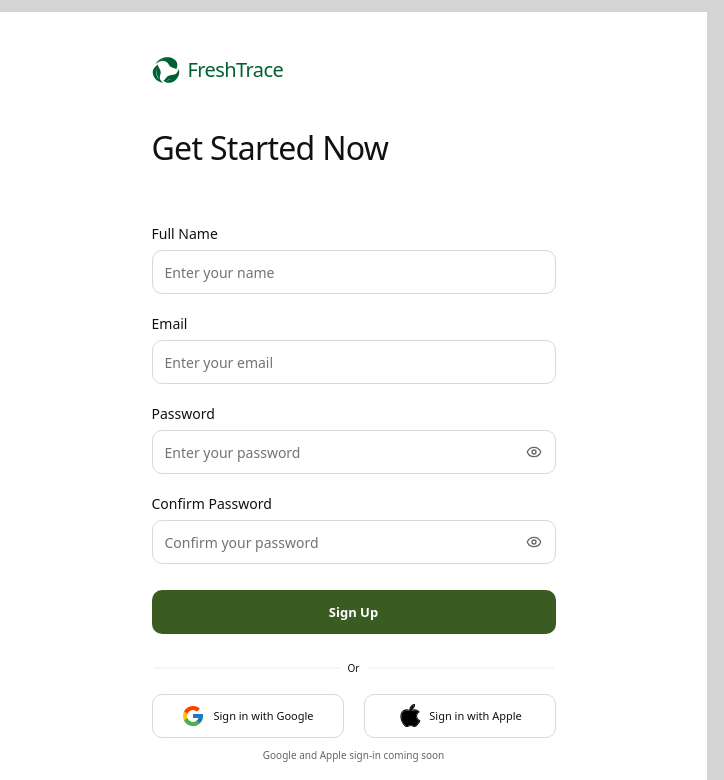
Test: signup confirmation and login › shows a safe API error and allows a retry
Type "Test User" into the field labelled "Full Name" at point(354, 272), box [152,250,556,294]
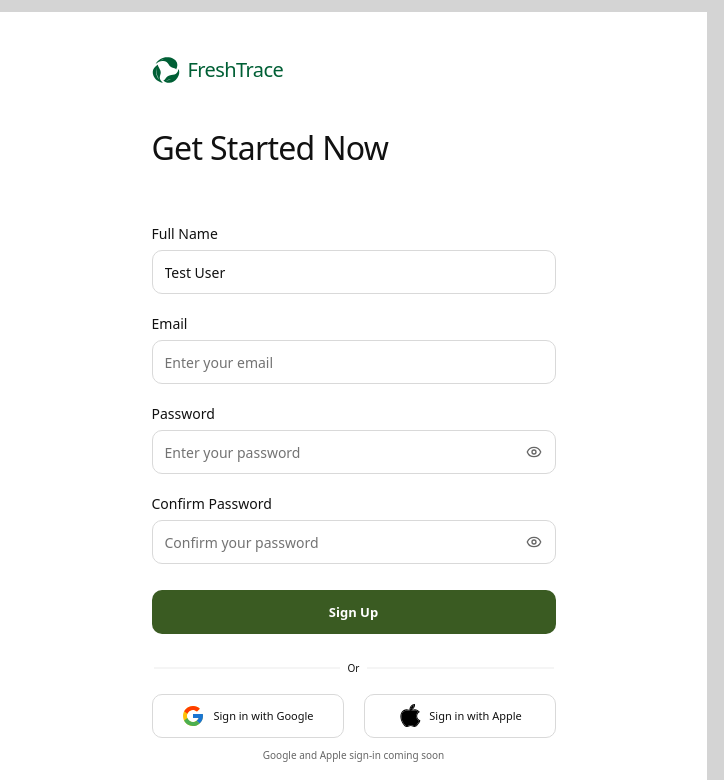
Type "test@example.com" into the field labelled "Email" at point(354, 362), box [152,340,556,384]
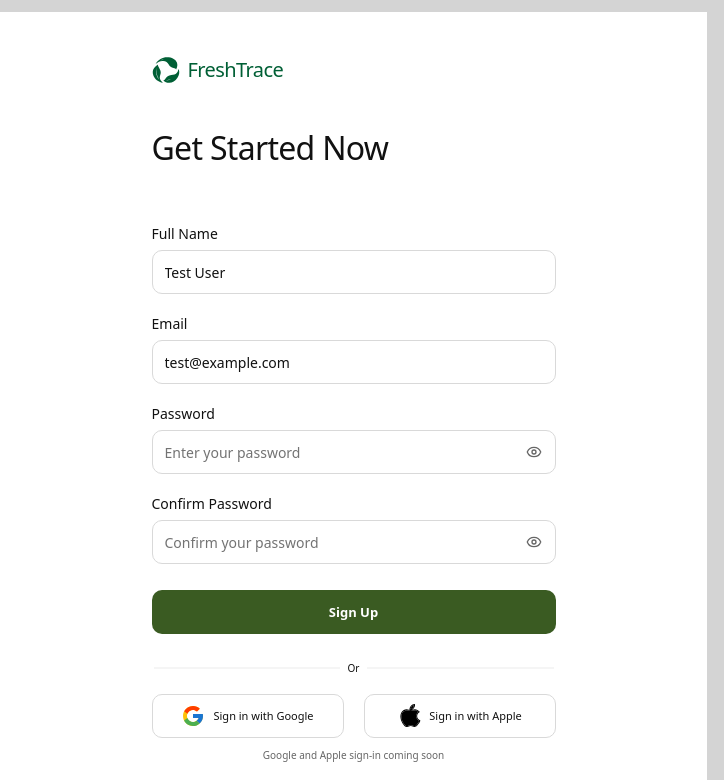
Type "fake-password" into the password field labelled "Password" at point(354, 452), box [152,430,556,474]
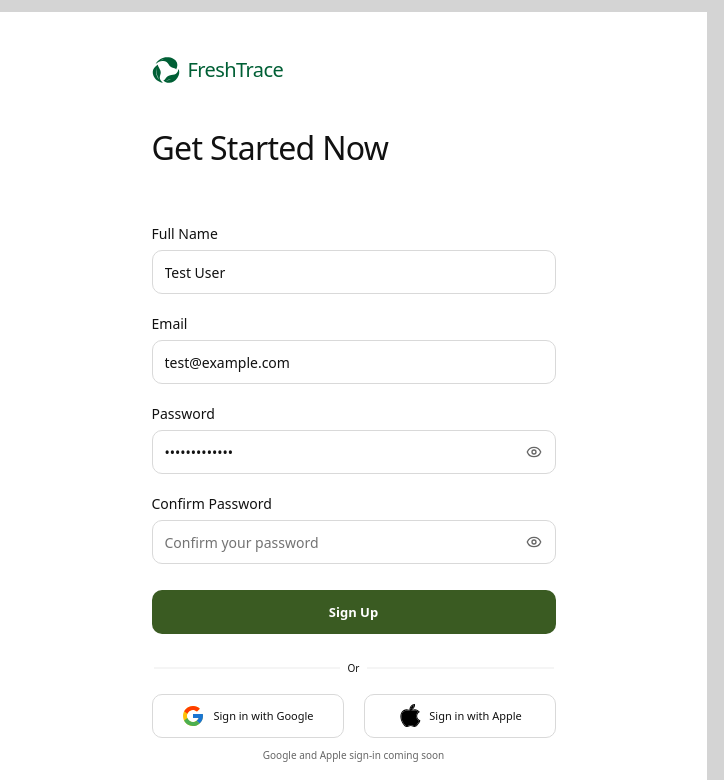
Type "fake-password" into the password field labelled "Confirm Password" at point(354, 542), box [152,520,556,564]
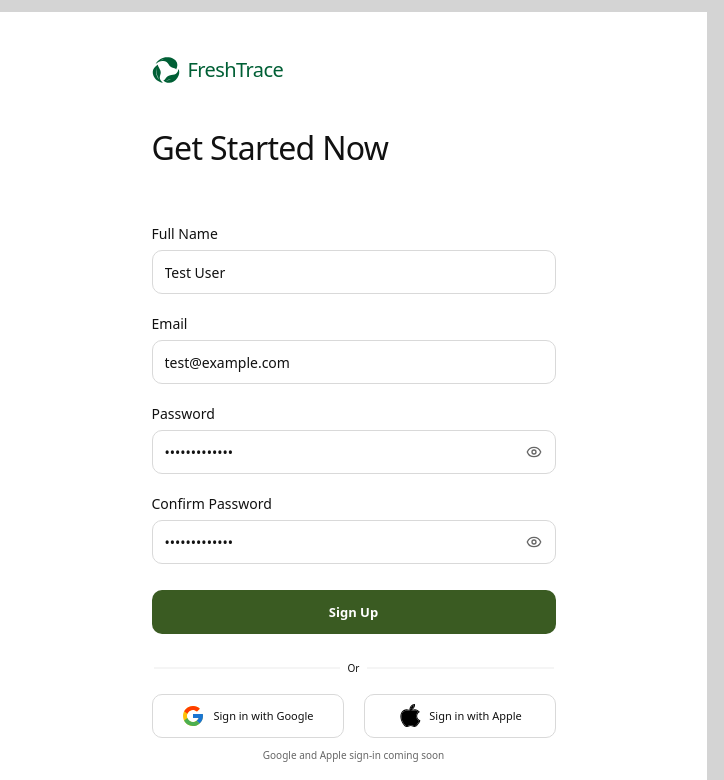
Submit the form named "Create an account", box [152,224,556,634]
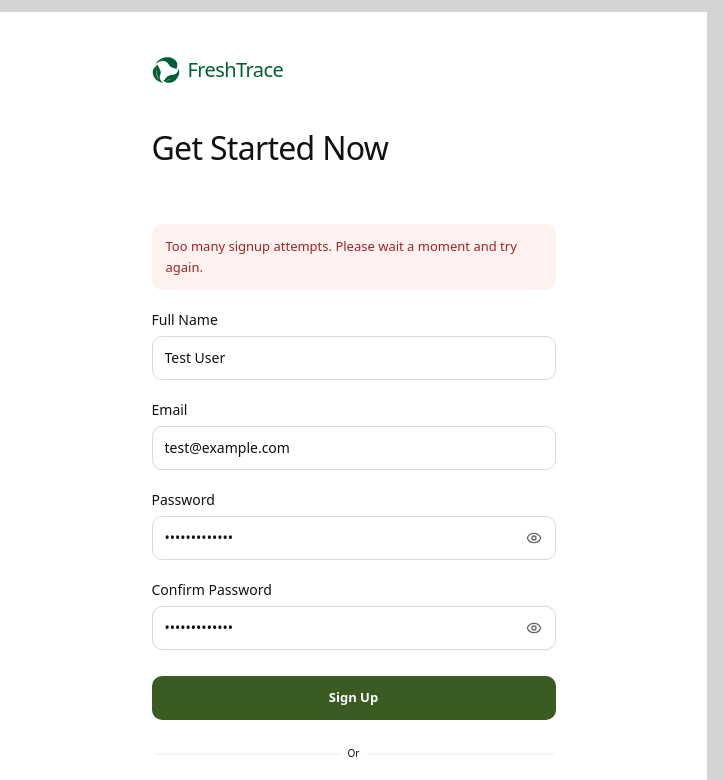
Expected: the button "Sign Up" is enabled, [152,676,556,720]
Now the message shows "Too many signup attempts", box [166,237,517,276]
Submit the form named "Create an account", box [152,224,556,720]
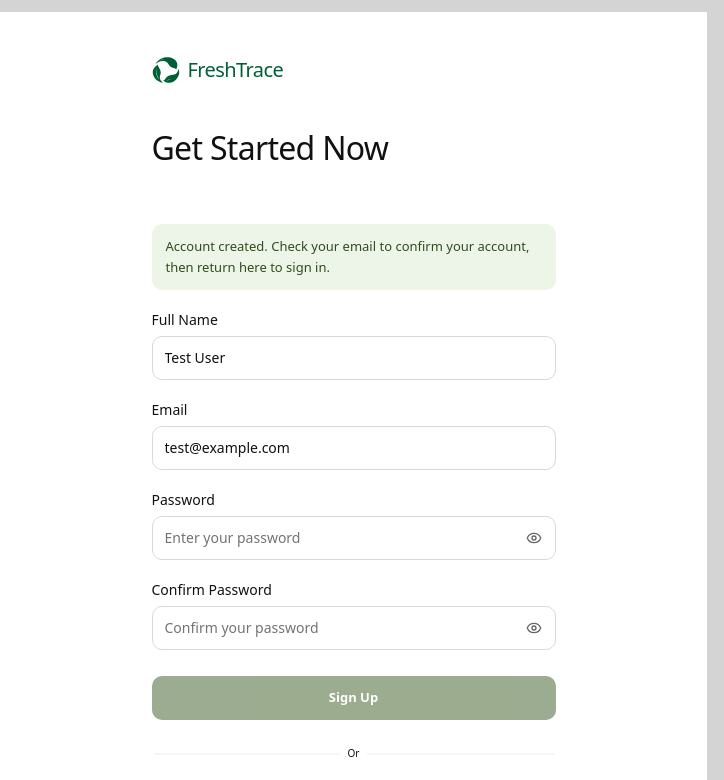
Now the message shows "Check your email", box [166,237,529,276]
